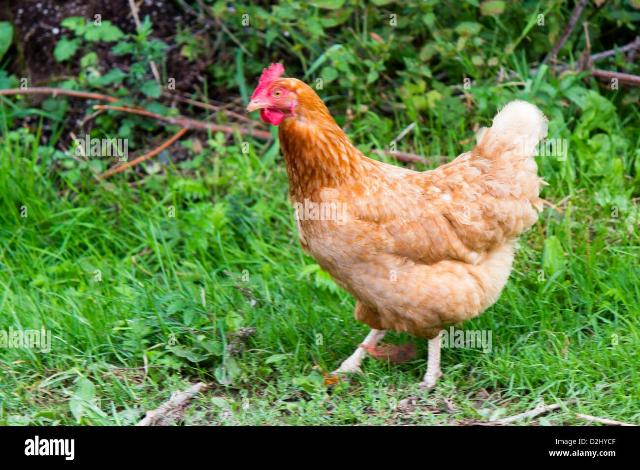Chicken: (247, 61, 551, 388)
